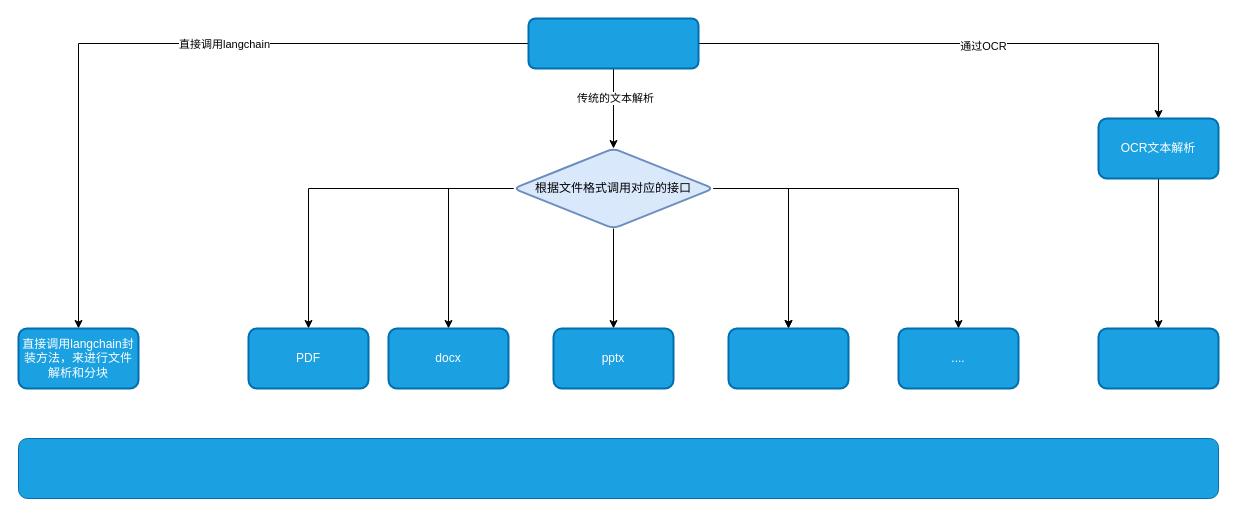
Image size: 1236x516. Some labels were removed from this diagram. The shapes that lost their labels are listed below. From the top down, each one's centre as x and y in pixels, then its label:
At point (613, 43): "读取用户上传的文件".
At point (788, 358): "URL".
At point (1158, 358): "保存切片位置信息和对应的解析文本结果".
At point (618, 468): "文本解析质量评估".
